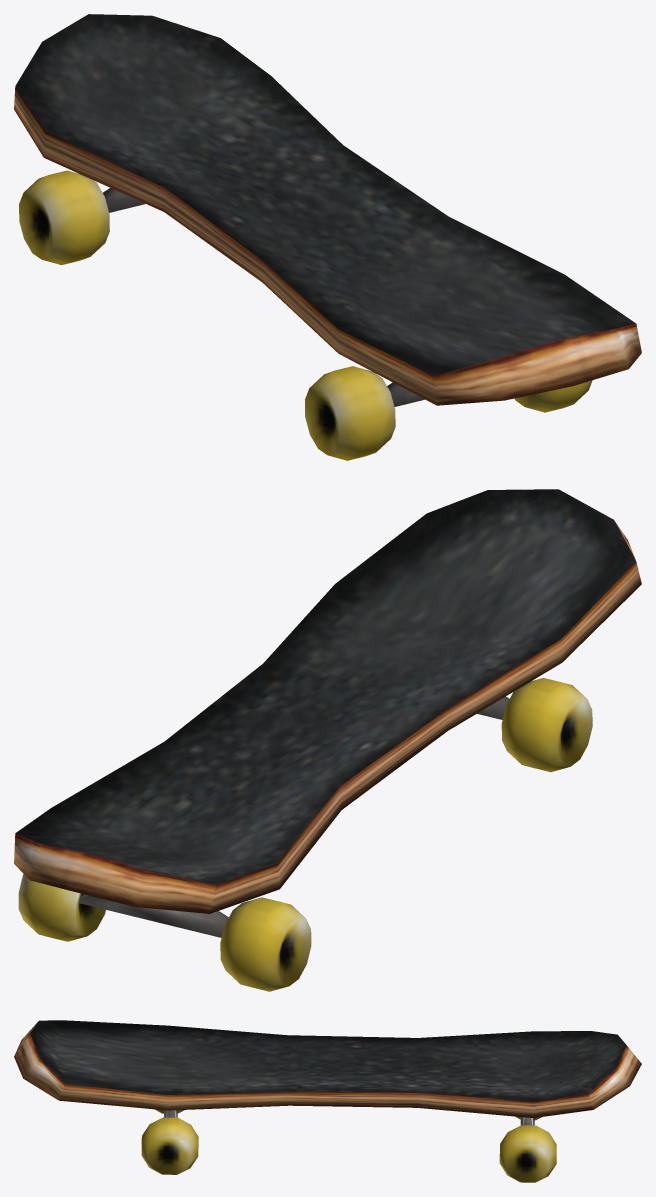
File: Max_Skateboard.FBX
The picture shows the model from 3 angles, top to bottom: view 1: azimuth 30°, elevation 25°; view 2: azimuth 150°, elevation 25°; view 3: azimuth 270°, elevation 25°; orthographic projection. The views are drawn at different scales.
Parts seen in each view (by area): view 1: A_board, A_wheelBL, A_wheelFL, A_wheelBR; view 2: A_board, A_wheelFL, A_wheelBL, A_wheelFR, A_axleF; view 3: A_board, A_wheelBR, A_wheelFR.
Boxes of the visible parts, x1,y1,x2,y2 form: A_board: [14, 14, 641, 405]; A_wheelBL: [305, 366, 395, 460]; A_wheelFL: [19, 170, 109, 265]; A_wheelBR: [514, 380, 592, 412]; A_board: [14, 489, 641, 913]; A_wheelFL: [220, 897, 311, 991]; A_wheelBL: [501, 678, 592, 772]; A_wheelFR: [18, 874, 105, 941]; A_axleF: [79, 894, 228, 937]; A_board: [14, 1020, 641, 1117]; A_wheelBR: [141, 1117, 198, 1174]; A_wheelFR: [499, 1125, 556, 1182].
Size of the model in its own units: 33.25 by 22.44 by 111.
